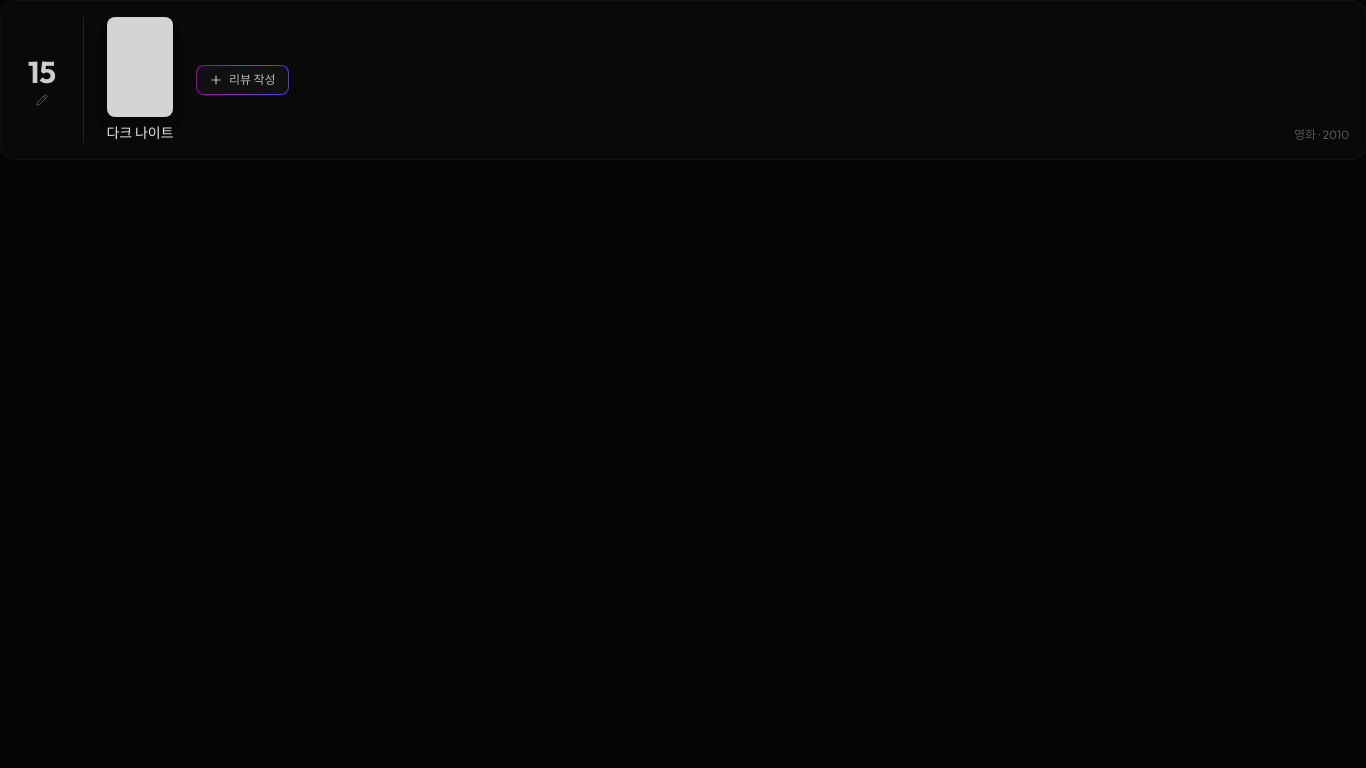
it: WatchlistCard › 리뷰가 없는 감상한 작품 › 날짜 영역 클릭 시 같은 리뷰 작성 모달을 열고 watchedAt을 기본값으로 사용한다
Click the button titled "감상 기록 수정" at (42, 80), box [17,17,67,143]
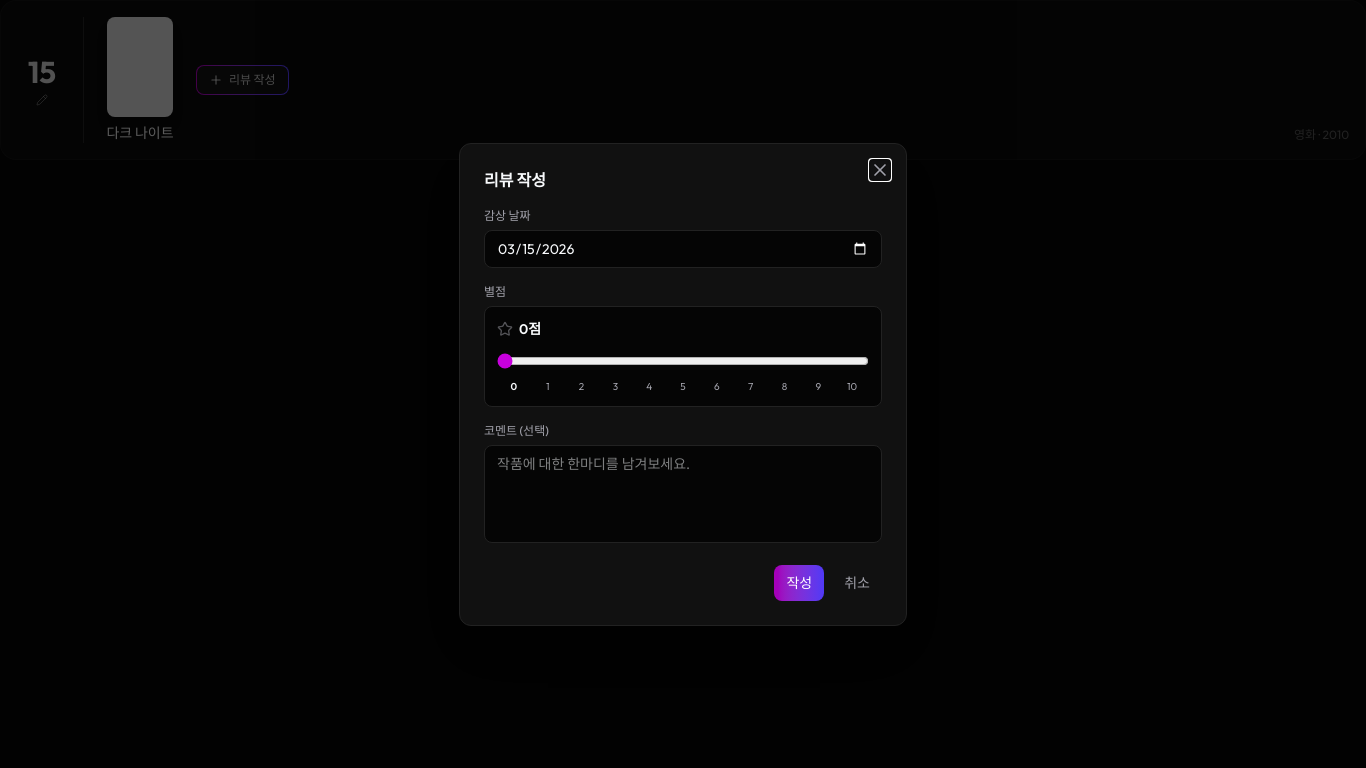
Result: the text "별점" is shown at [484,284,506,298]
Result: the date field showing "2026-03-15" is shown at [484,230,882,268]
